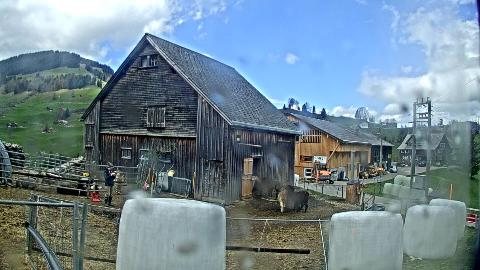car: (389, 165, 397, 173), (418, 161, 426, 167)
sheep: (253, 174, 283, 199), (285, 185, 309, 213), (16, 170, 46, 190), (58, 184, 96, 196), (255, 176, 274, 198), (77, 181, 103, 195), (278, 184, 288, 212), (113, 171, 123, 195), (252, 176, 256, 192)
